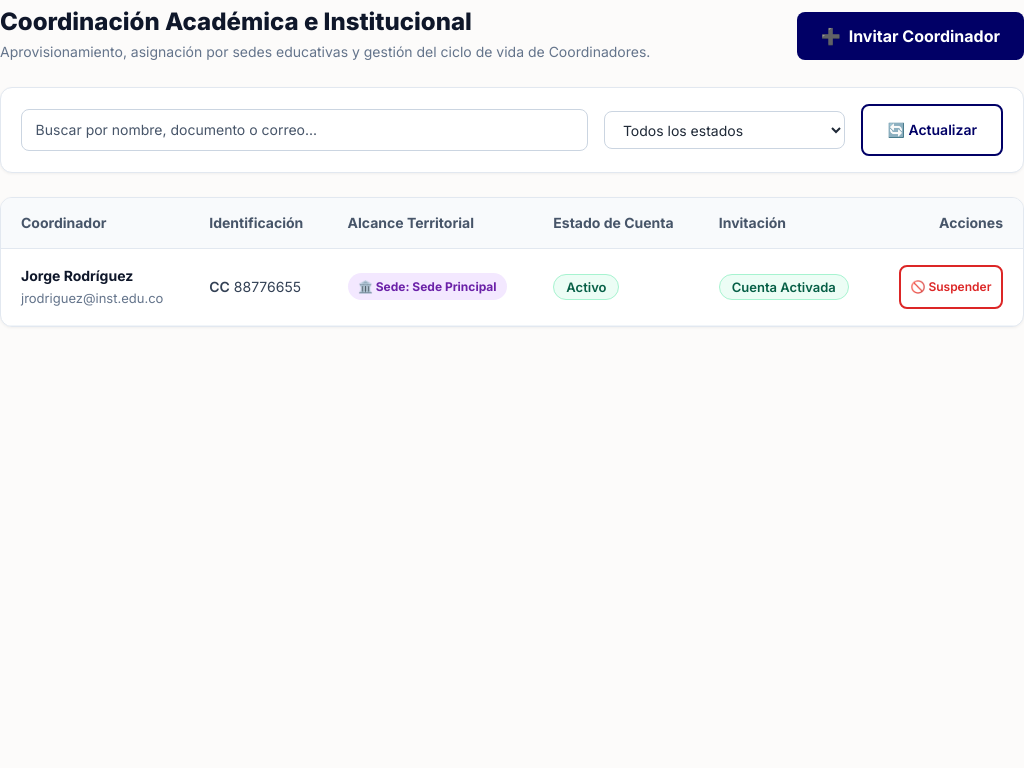
NTA-10-R9: CoordinatorsView and Invitation Lifecycle Frontend Integration › enforces exclusivity UX: disables global radio and labels occupied campus when campus coordinator exists
Click the button "➕ Invitar Coordinador" at {"x": 910, "y": 36}, box [797, 12, 1023, 60]
(page scrolled)
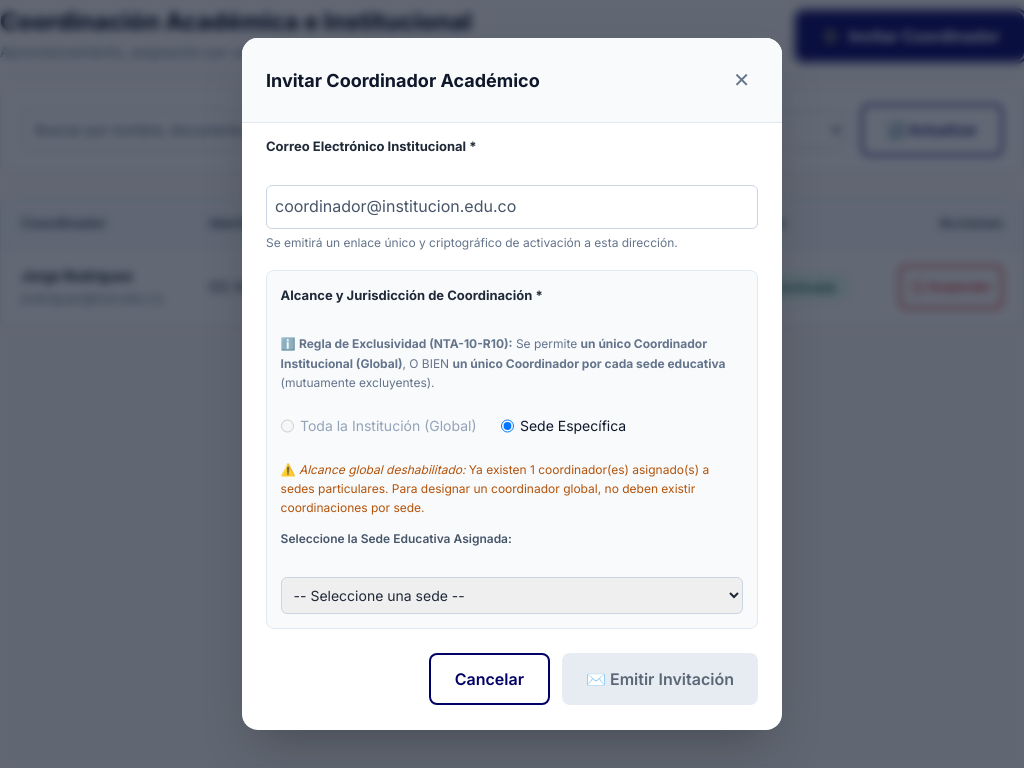
Now the radio button labelled "Toda la Institución (Global)" is disabled, box [281, 404, 294, 448]
Now the text "Alcance global deshabilitado:" is shown, box [299, 462, 465, 477]
Now the dropdown named "Seleccionar sede educativa" is shown, box [281, 578, 743, 614]
